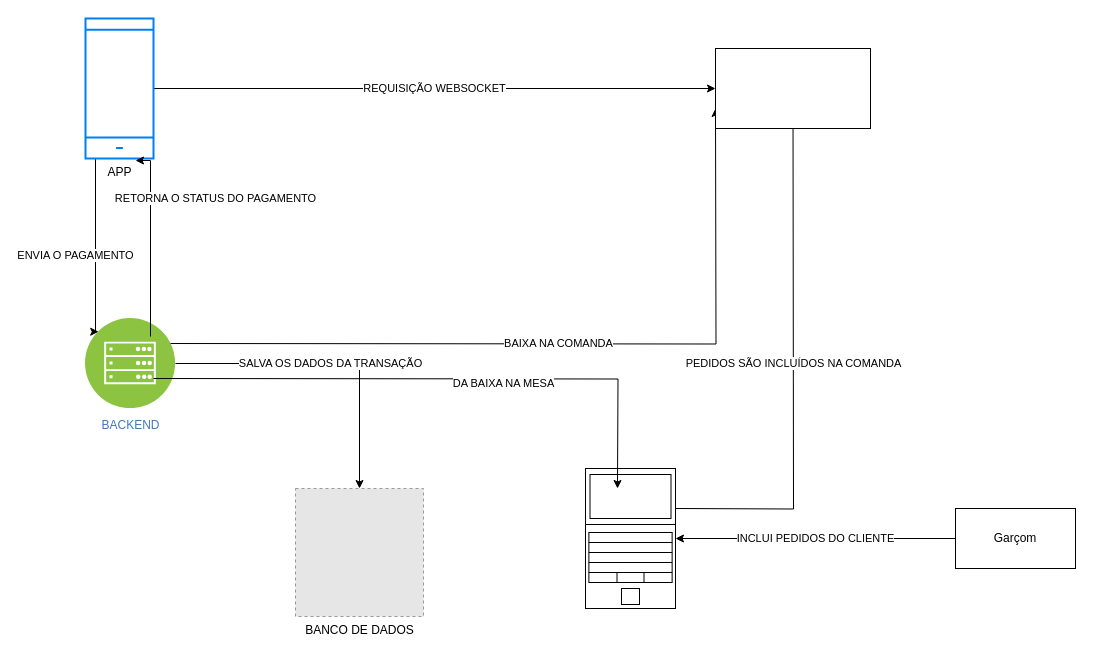
Image size: 1093x654. Some labels were removed from this diagram. Grey dashed boxes stand in for pictures. The centre of each missing label's shape, as x and y in pixels:
"COMANDA" goes at point (792, 88).
"PDV" goes at point (630, 538).
